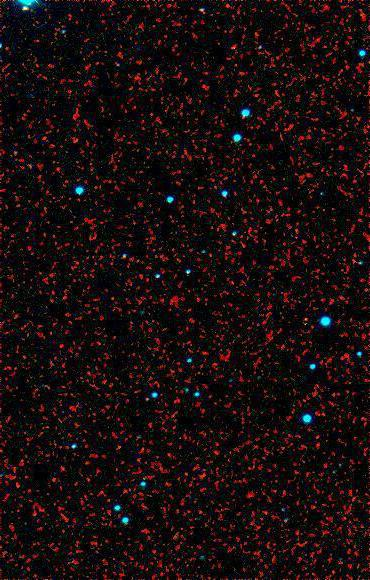star: (219, 30, 249, 60)
